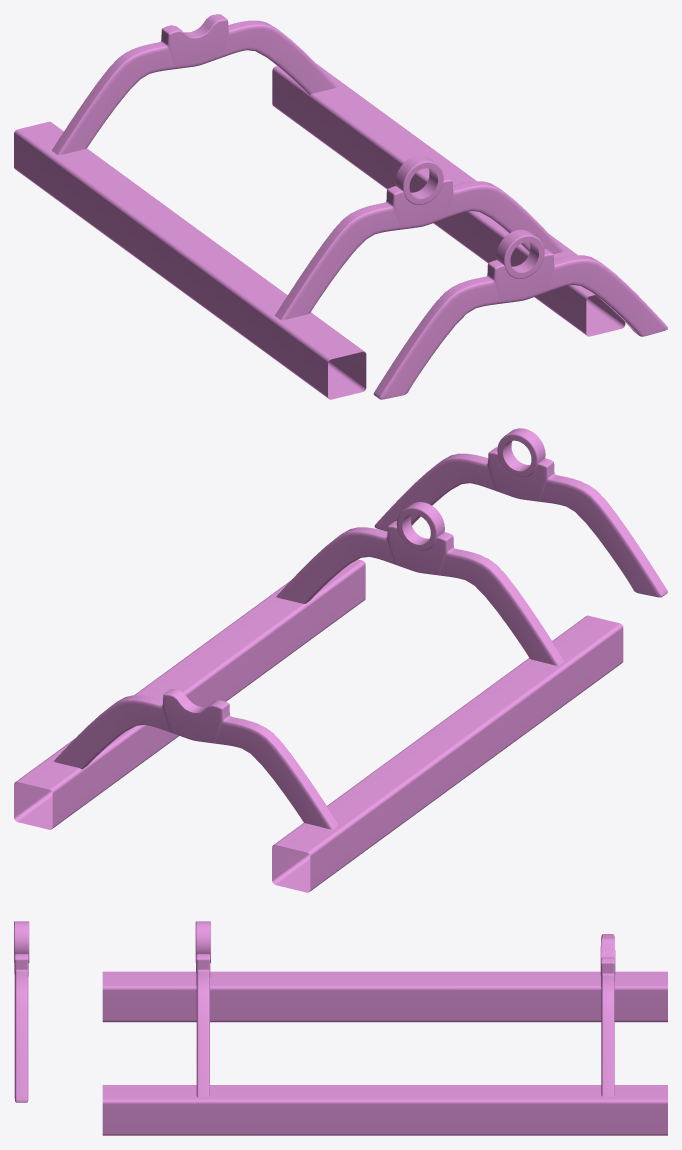
Rendered from !PH_SupportTank.fbx.
3 views of the same model, one above another, from view 1: azimuth 30°, elevation 25°; view 2: azimuth 150°, elevation 25°; view 3: azimuth 270°, elevation 25° (orthographic). The views are drawn at different scales.
Visible parts, largest first — view 1: pPipe4; view 2: pPipe4; view 3: pPipe4.
Boxes of the visible parts, x1,y1,x2,y2 form: pPipe4: (14,14,667,399); pPipe4: (14,428,667,892); pPipe4: (14,921,667,1135).
Size of the model in its own units: 3.66 by 7.75 by 1.94.
